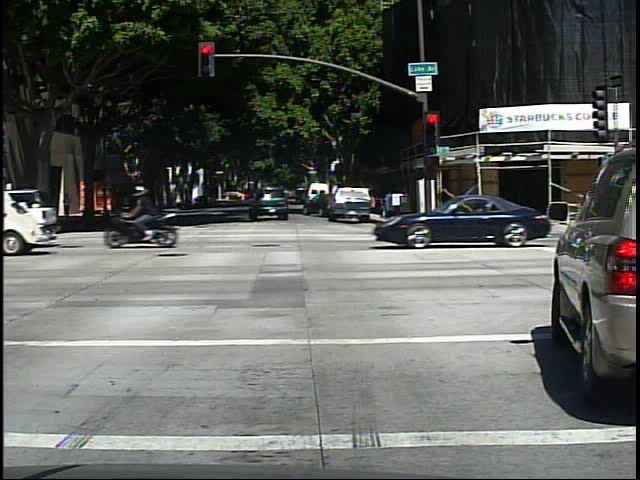person: (141, 181, 180, 242), (63, 191, 73, 222)
